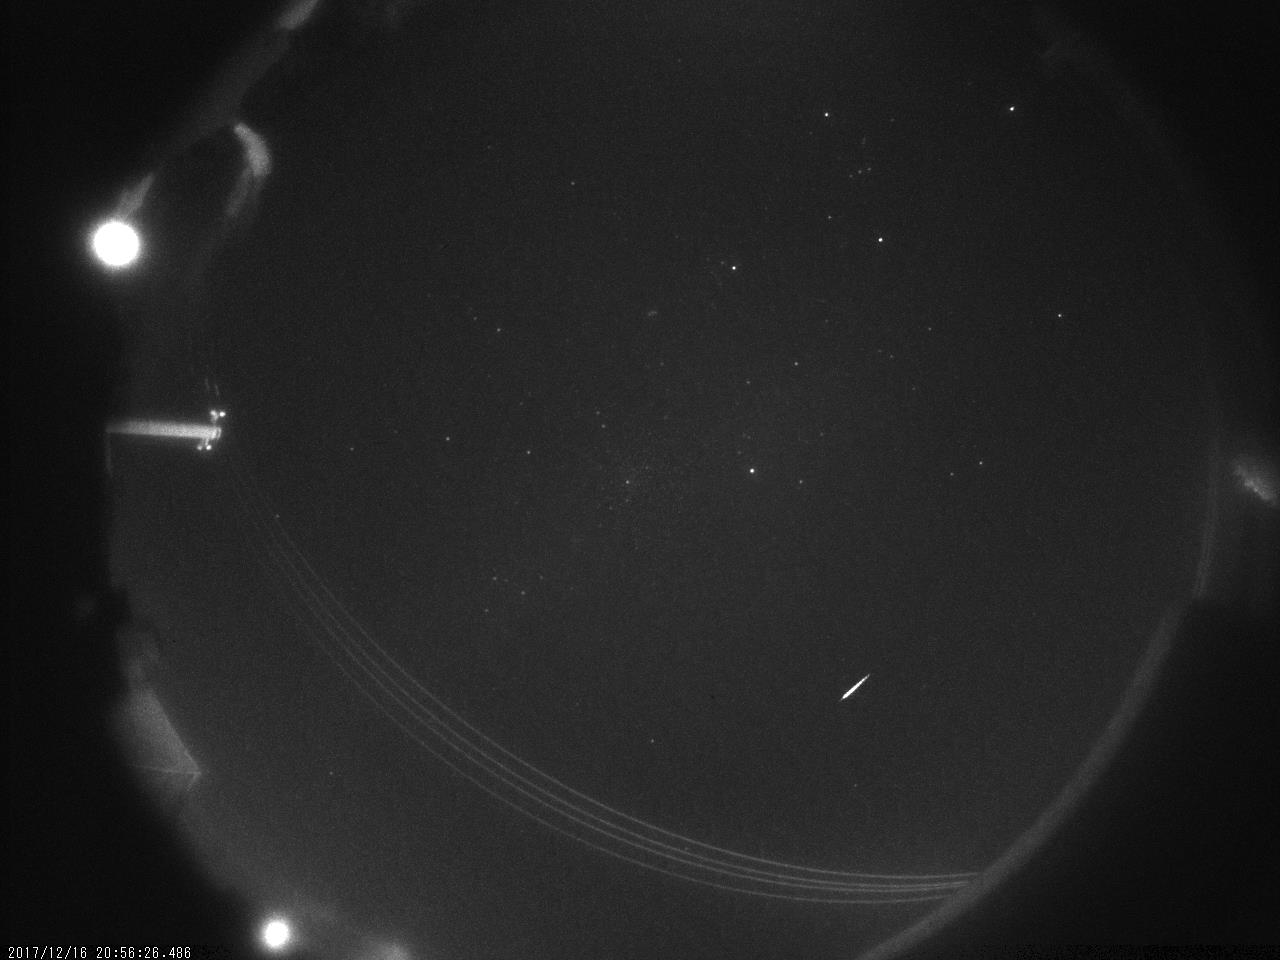meteor: (816, 658, 913, 717)
